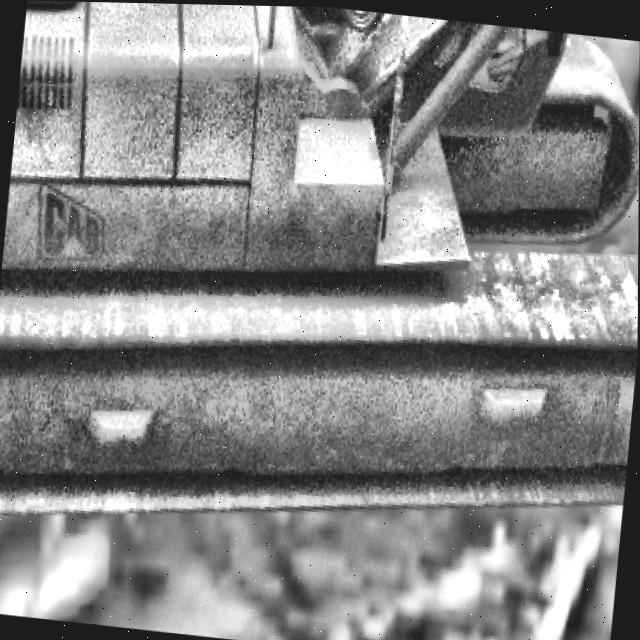excavator: (0, 0, 640, 590)
